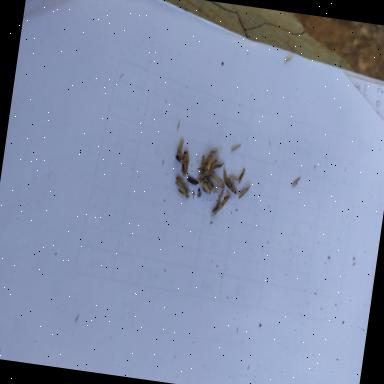pbw: (172, 172, 193, 195), (178, 148, 192, 178), (222, 176, 240, 196), (174, 135, 185, 163), (196, 168, 216, 182), (201, 151, 214, 172), (236, 183, 252, 200), (218, 193, 230, 212), (210, 174, 226, 188), (199, 181, 212, 195), (209, 204, 220, 218), (176, 189, 190, 199), (212, 161, 224, 171)
